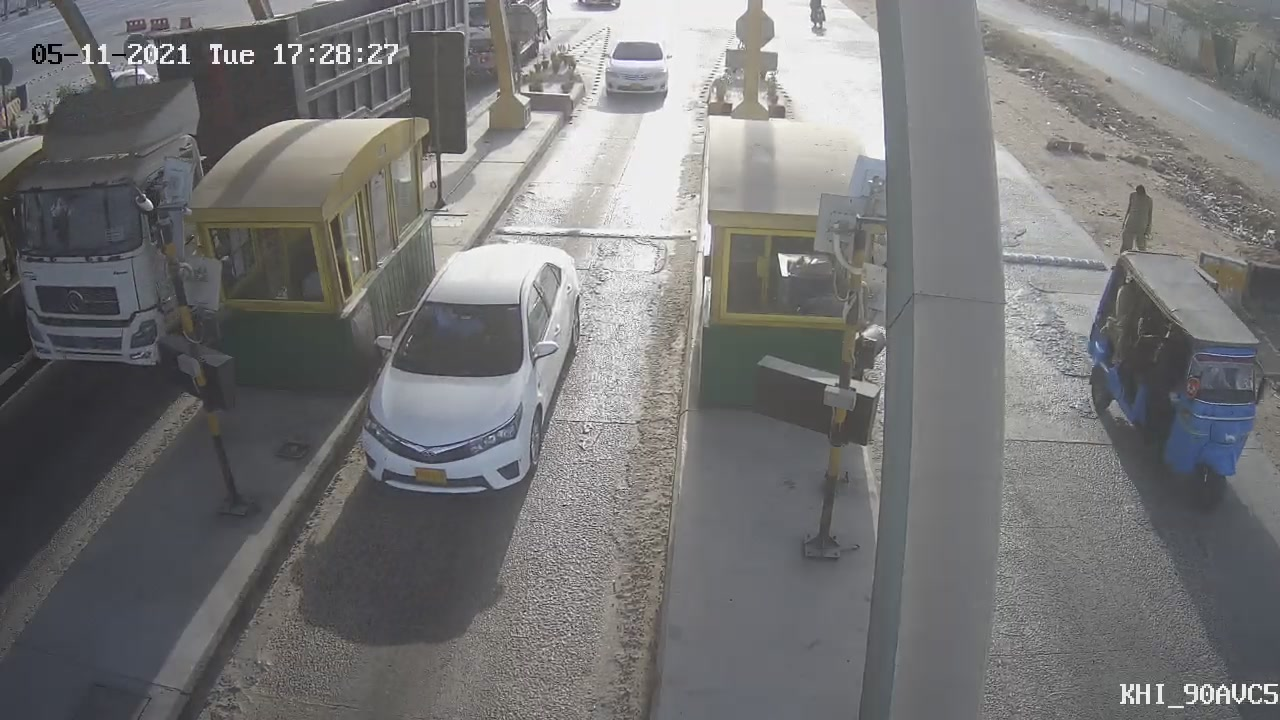F1: (327, 226, 603, 518)
